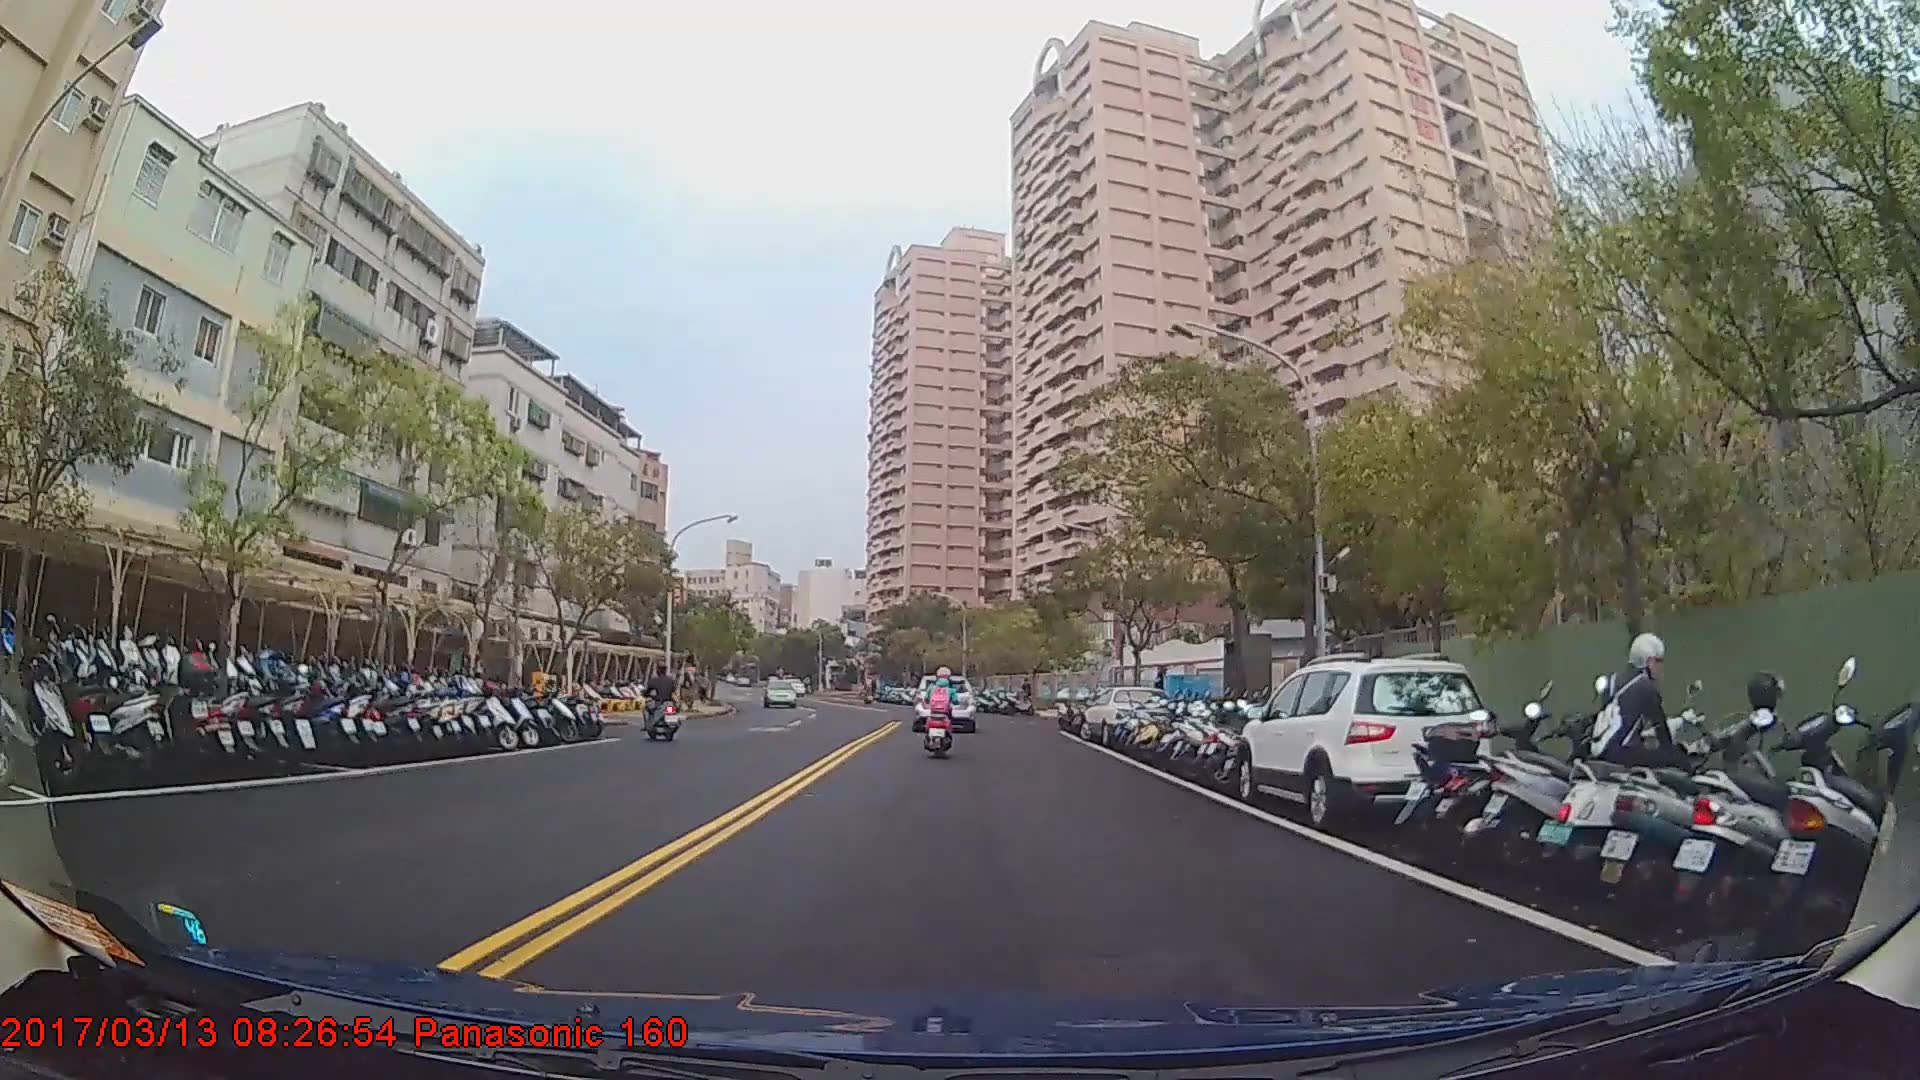rider: (920, 662, 962, 765), (643, 664, 680, 747)
vehicle: (1233, 658, 1498, 829), (1078, 684, 1170, 749), (910, 674, 974, 731), (761, 680, 798, 708)
